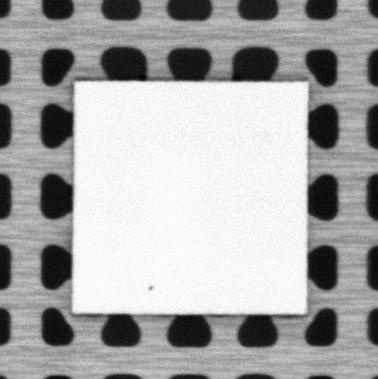DIE_INK: (145, 283, 155, 292)
